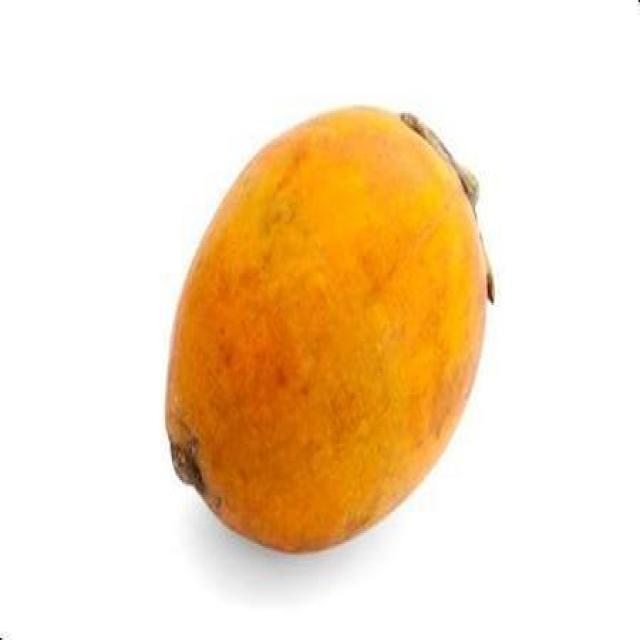good: (164, 107, 492, 555)
